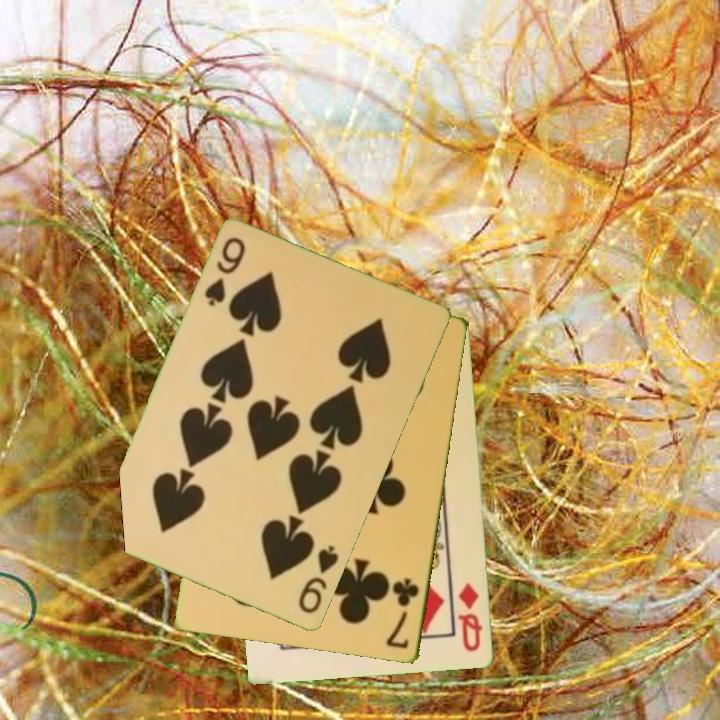7c: (383, 575, 422, 652)
9s: (201, 234, 249, 310), (295, 542, 342, 617)
Qd: (454, 579, 486, 655)
